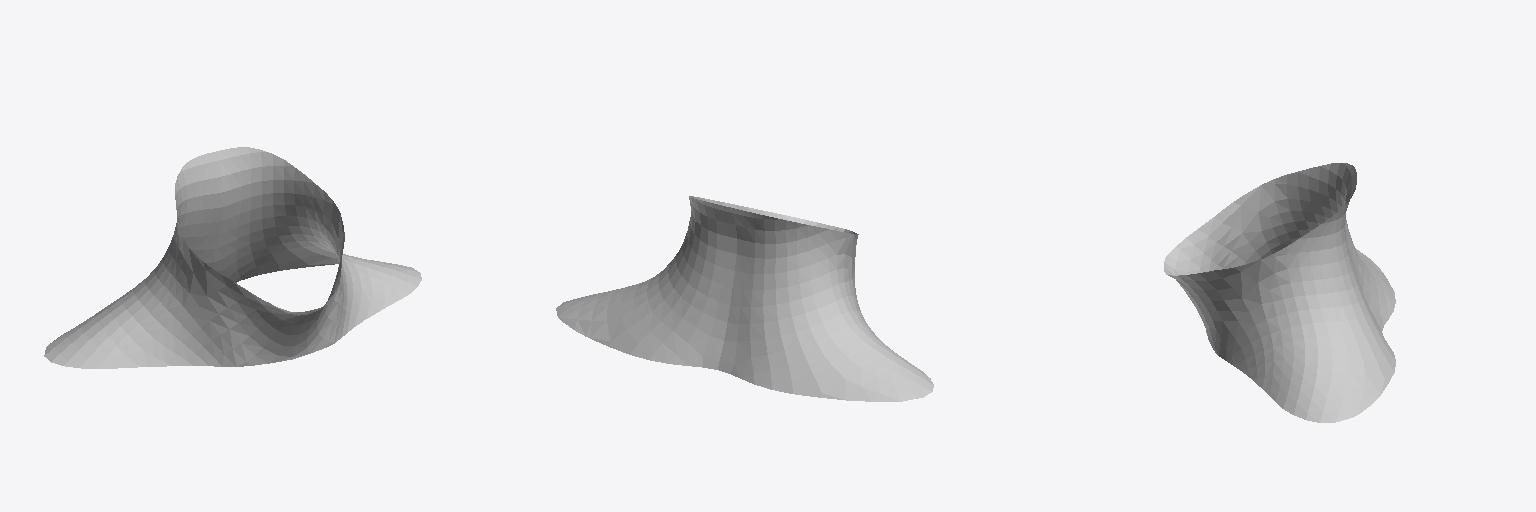
The model's file is gat.obj.
3 views of the same model, side by side, from view 1: azimuth 30°, elevation 25°; view 2: azimuth 150°, elevation 25°; view 3: azimuth 270°, elevation 25° (orthographic).
Parts seen in each view (by area): view 1: gat; view 2: gat; view 3: gat.
Boxes of the visible parts, <box> form: gat: <box>44,147,421,368</box>; gat: <box>556,196,933,401</box>; gat: <box>1164,163,1395,422</box>.
Bounding box in the file's own units: 3.46 × 1.38 × 1.89.